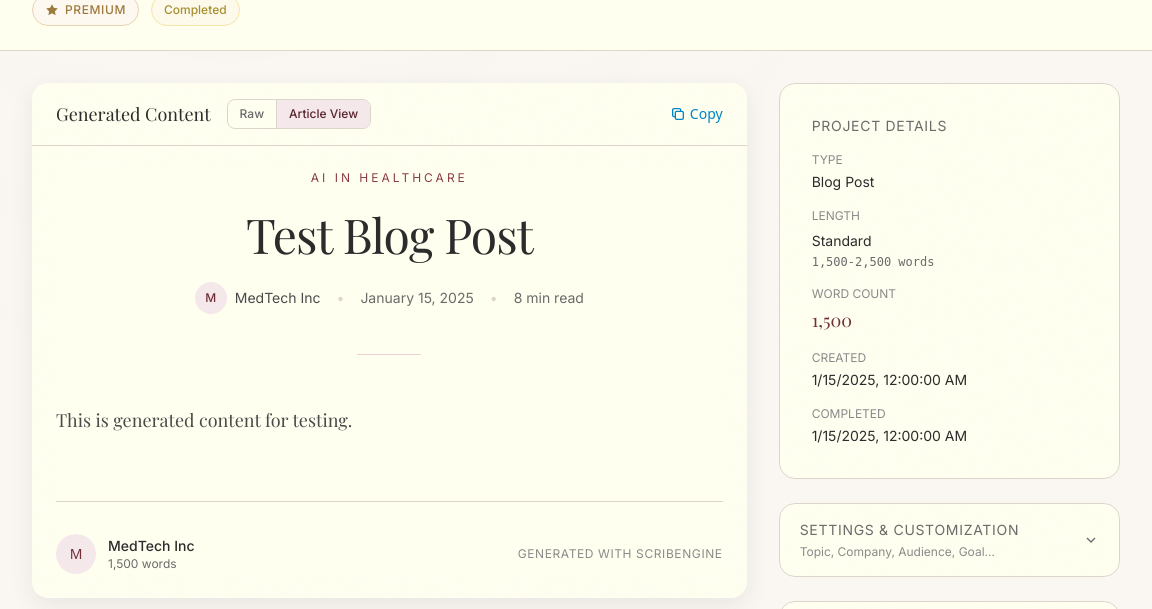
Scenario: Project Settings Panel › Change Detection › shows Save/Reset when additional info changes
The width and height of the screenshot is (1152, 609).
Click the heading "Settings & Customization".
click(909, 530)  # box [800, 520, 1019, 540]
(page scrolled)
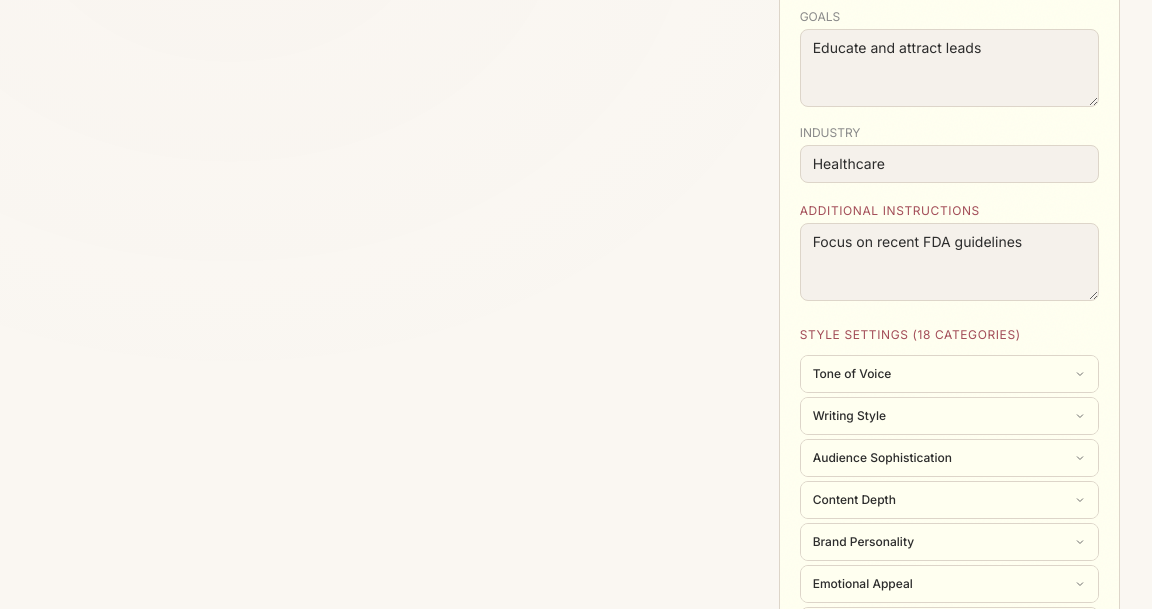
Replace the text in the text box showing "Focus on recent FDA guidelines" below "Additional Instructions" with "Changed info" at (949, 262), box [800, 223, 1099, 301]
(page scrolled)
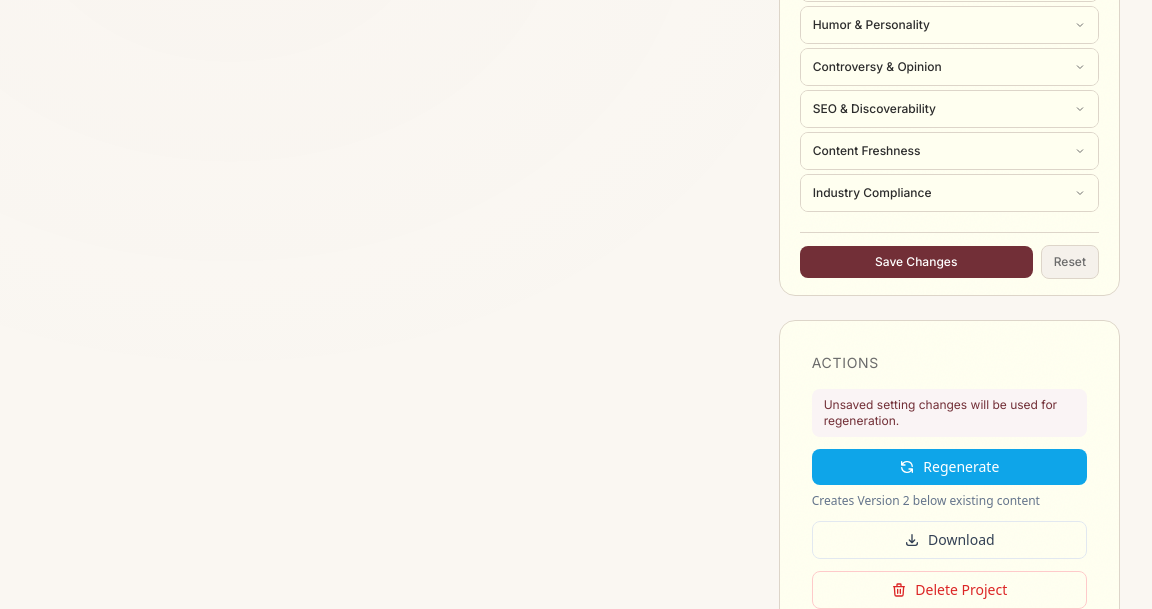
Check: the button "Save Changes" is shown, box [800, 246, 1033, 278]
